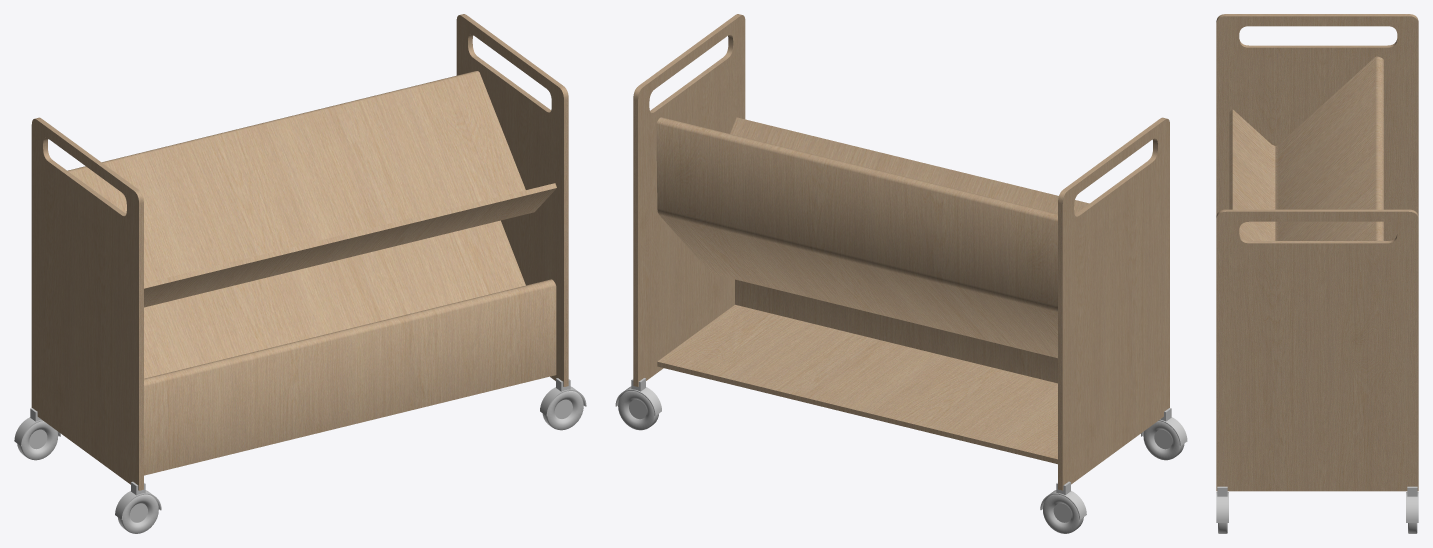
File: D_BookCarrier_201.fbx
3 renders of one model, left to right at view 1: azimuth 30°, elevation 25°; view 2: azimuth 150°, elevation 25°; view 3: azimuth 270°, elevation 25°, orthographic. The views are drawn at different scales.
Parts seen in each view (by area): view 1: D_BookCarrier_201; view 2: D_BookCarrier_201; view 3: D_BookCarrier_201.
Part boxes in pixels (x1=…): D_BookCarrier_201: x1=14, y1=14, x2=586, y2=533; D_BookCarrier_201: x1=615, y1=14, x2=1187, y2=533; D_BookCarrier_201: x1=1216, y1=14, x2=1418, y2=533.
Size of the model in its own units: 1.4 by 0.9803 by 0.56.
